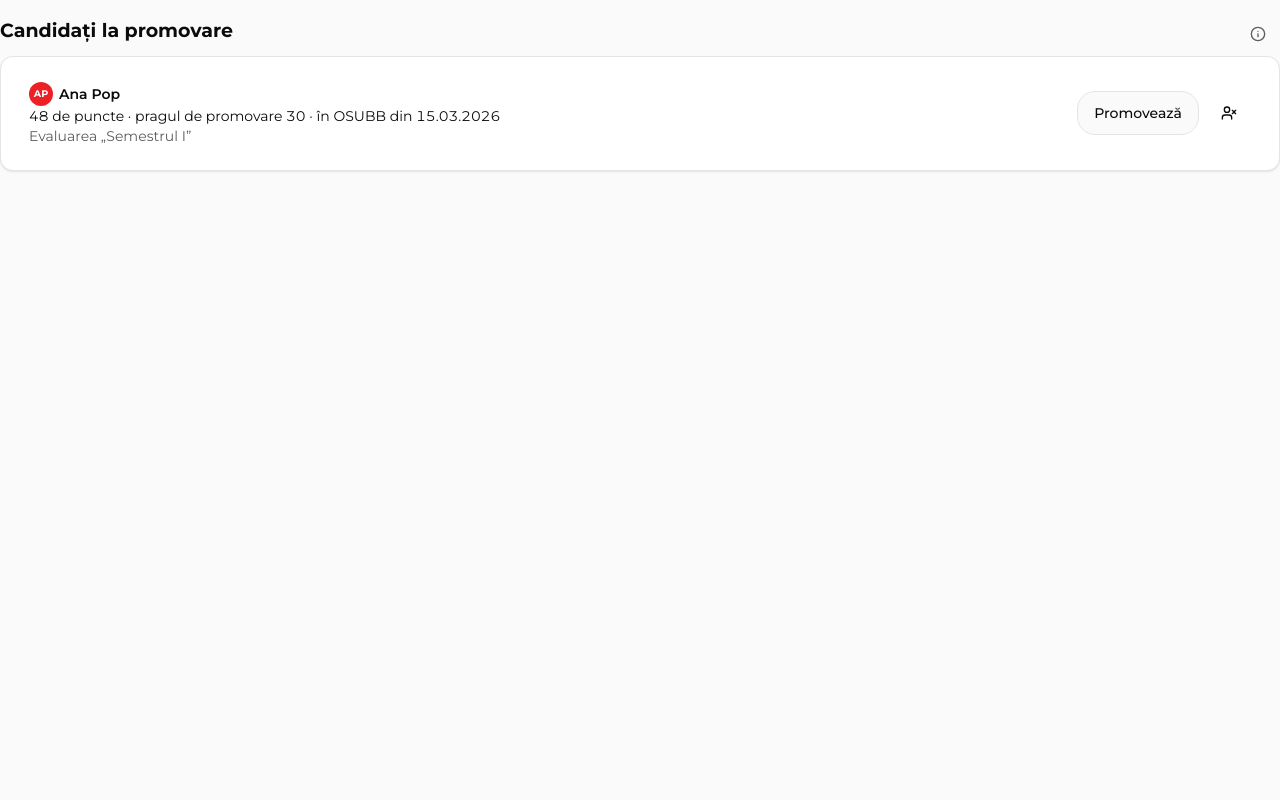
Test: reports a candidate decided meanwhile, and says so when no candidate waits
This screenshot has width=1280, height=800.
Click the button named "Respinge: Ana Pop" at (1229, 113), box [1207, 91, 1251, 135]
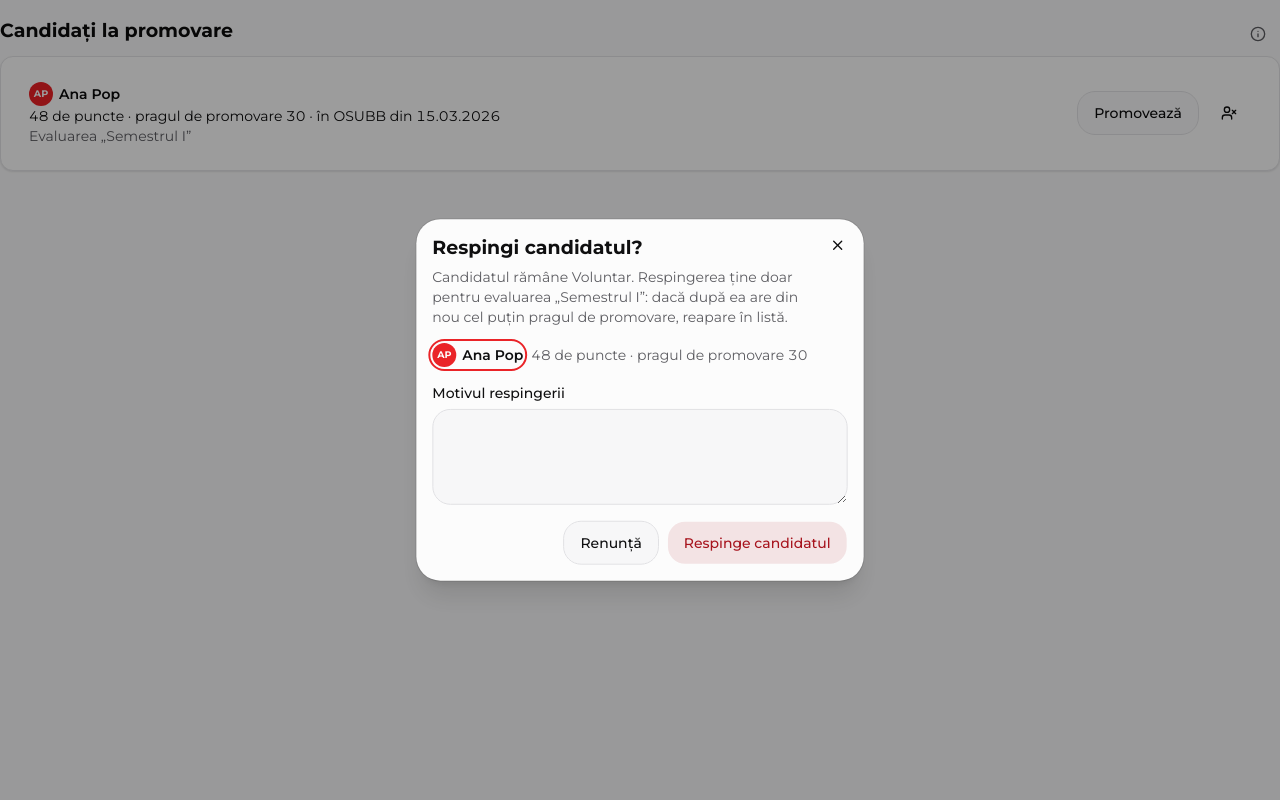
Type "Deja promovată" into the text box labelled "Motivul respingerii" at (640, 457), box [432, 409, 848, 505]
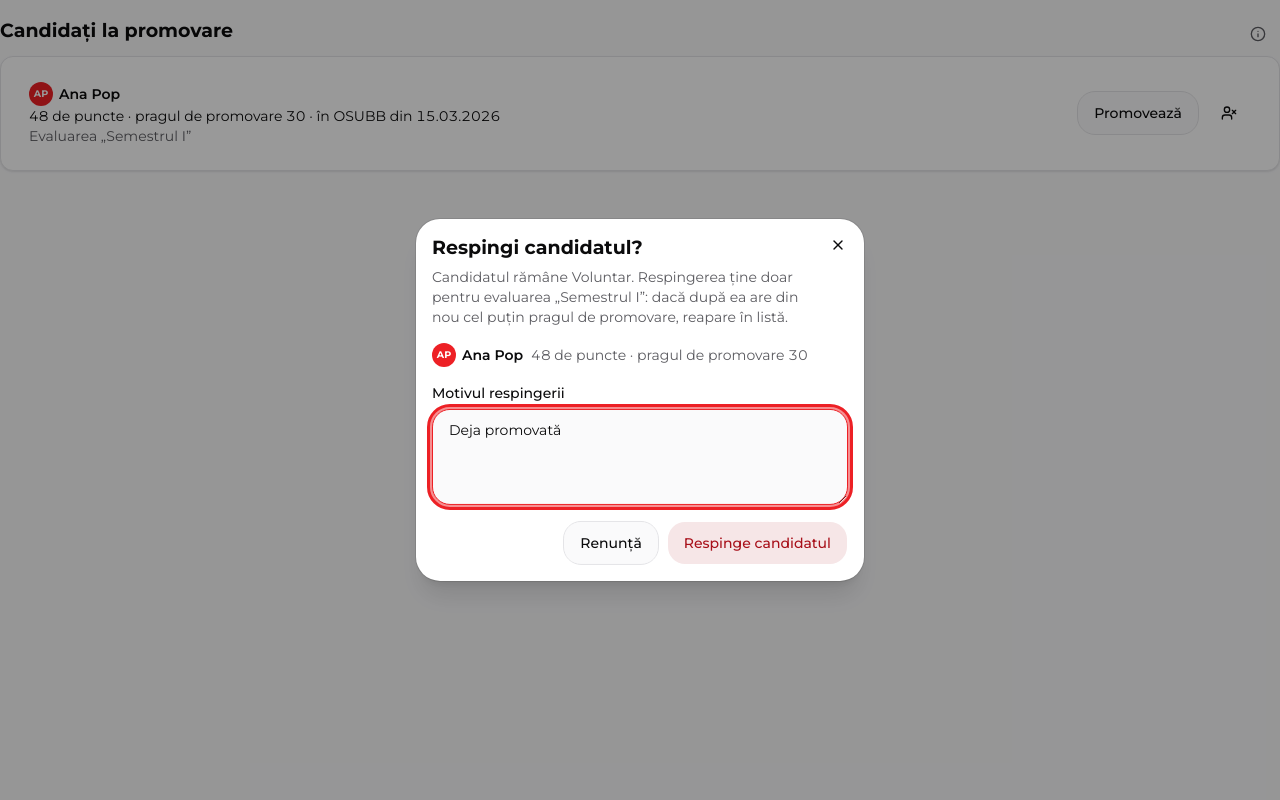
Click the button "Respinge candidatul" at (757, 543), box [667, 521, 848, 565]
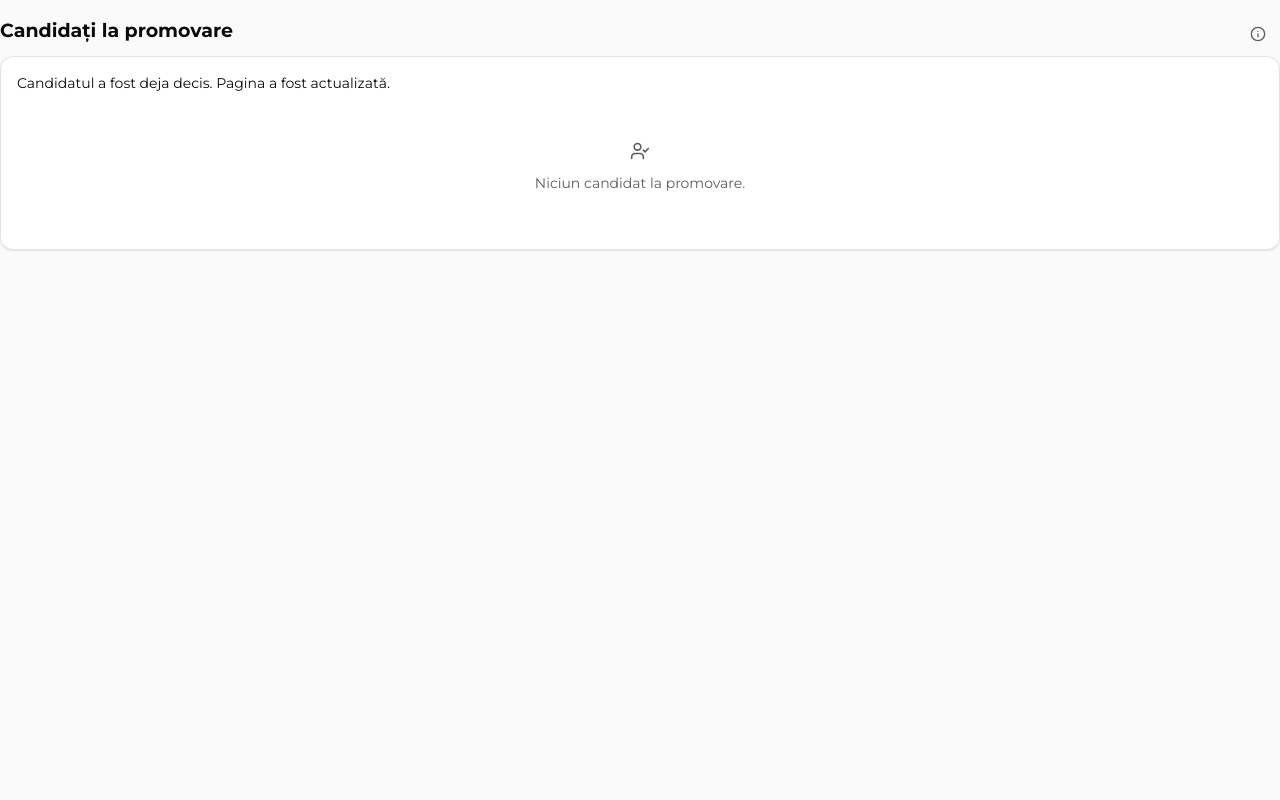
Check: the text "Candidatul a fost deja decis. Pagina a fost actualizată." is shown, box [17, 74, 390, 92]
Check: the text "Niciun candidat la promovare." is shown, box [535, 173, 745, 193]
Check: the dialog is gone
